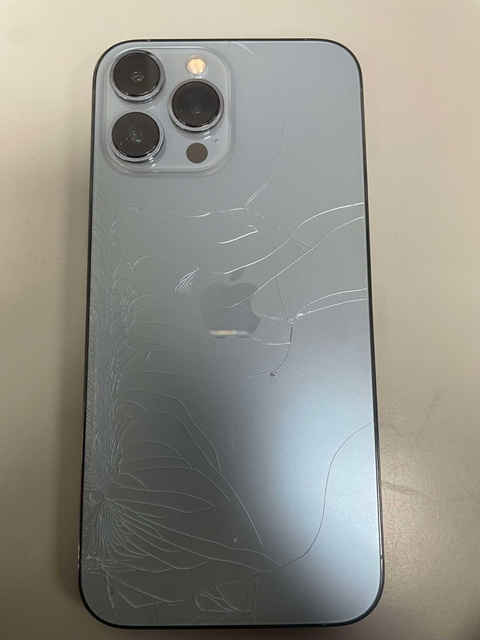crack_phone: (71, 28, 407, 631)
